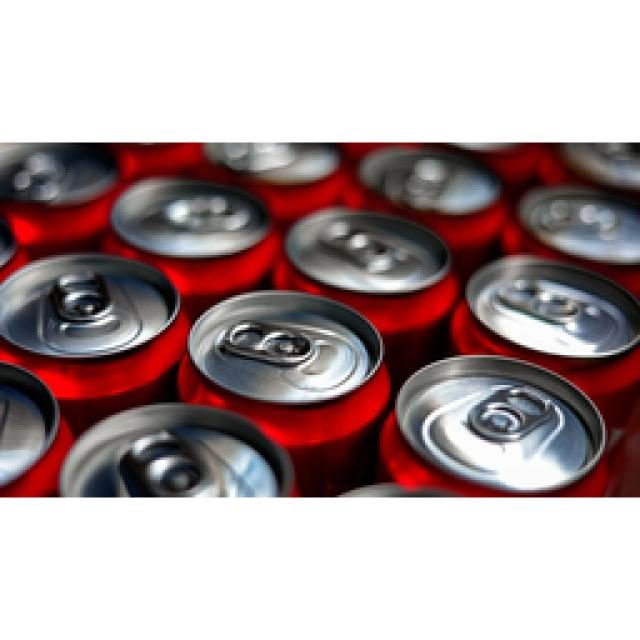aluminum_soda_cans: (388, 350, 608, 493), (183, 284, 390, 424), (5, 257, 182, 385), (53, 407, 295, 498), (457, 250, 640, 347)
